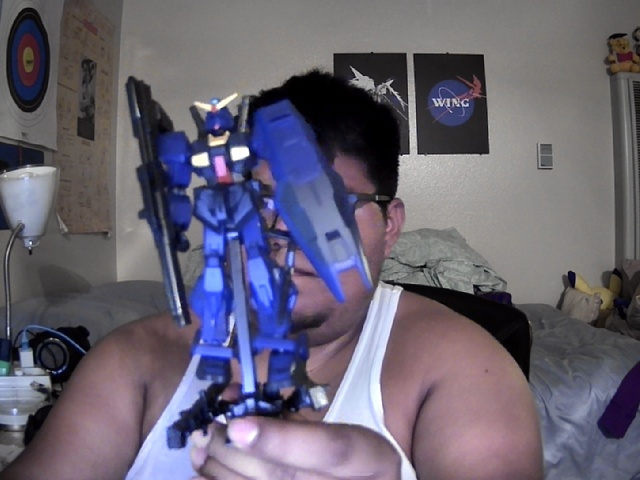Mk-11-Titans: (124, 75, 373, 390)
